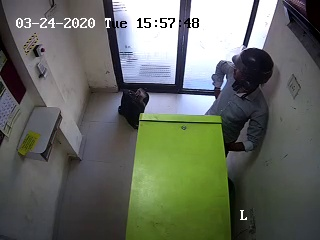helmet: (220, 42, 276, 95)
